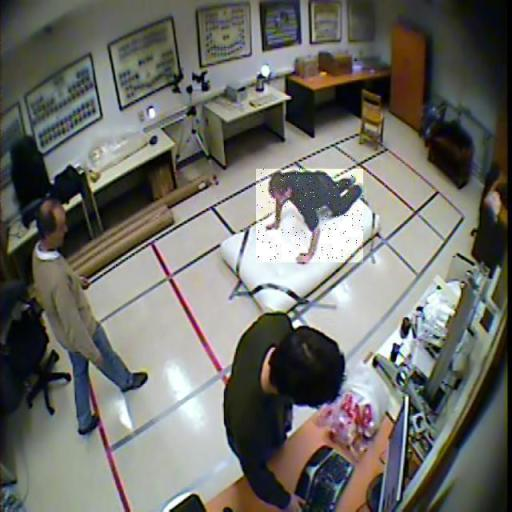Fall: (256, 169, 363, 262)
